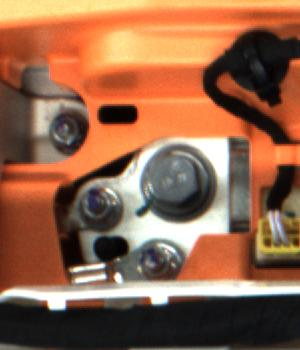nut_b: (133, 144, 220, 223)
